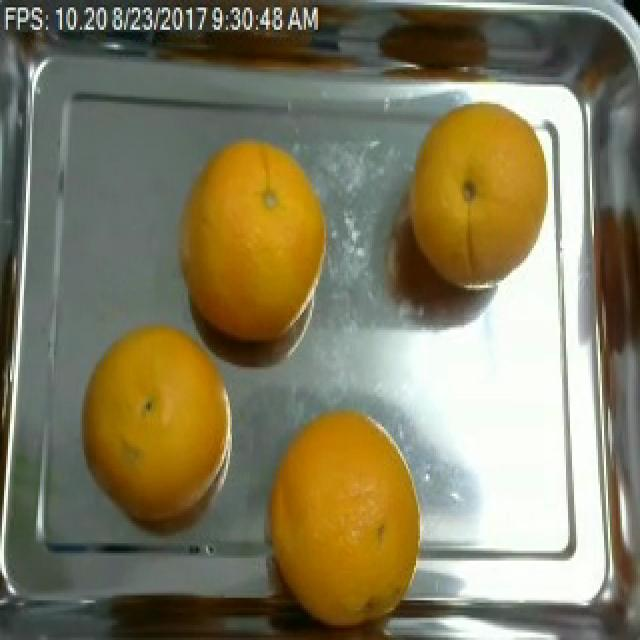Fruit: (70, 305, 236, 526), (390, 77, 554, 300)
